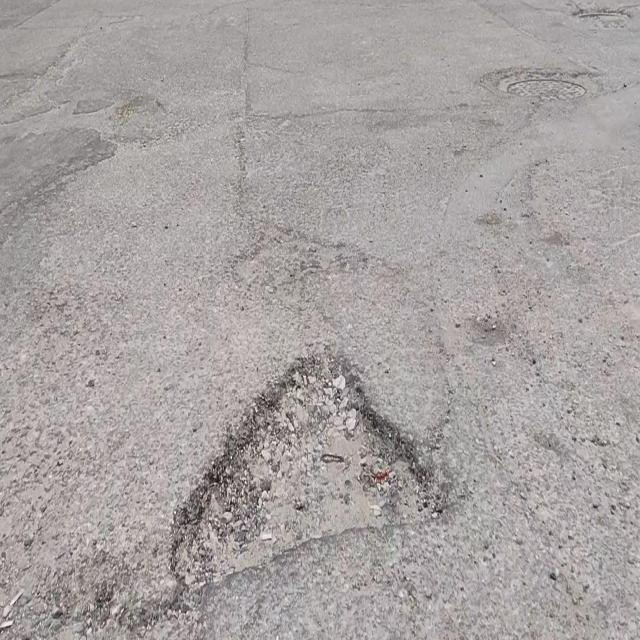Potholes: (170, 358, 459, 589)
